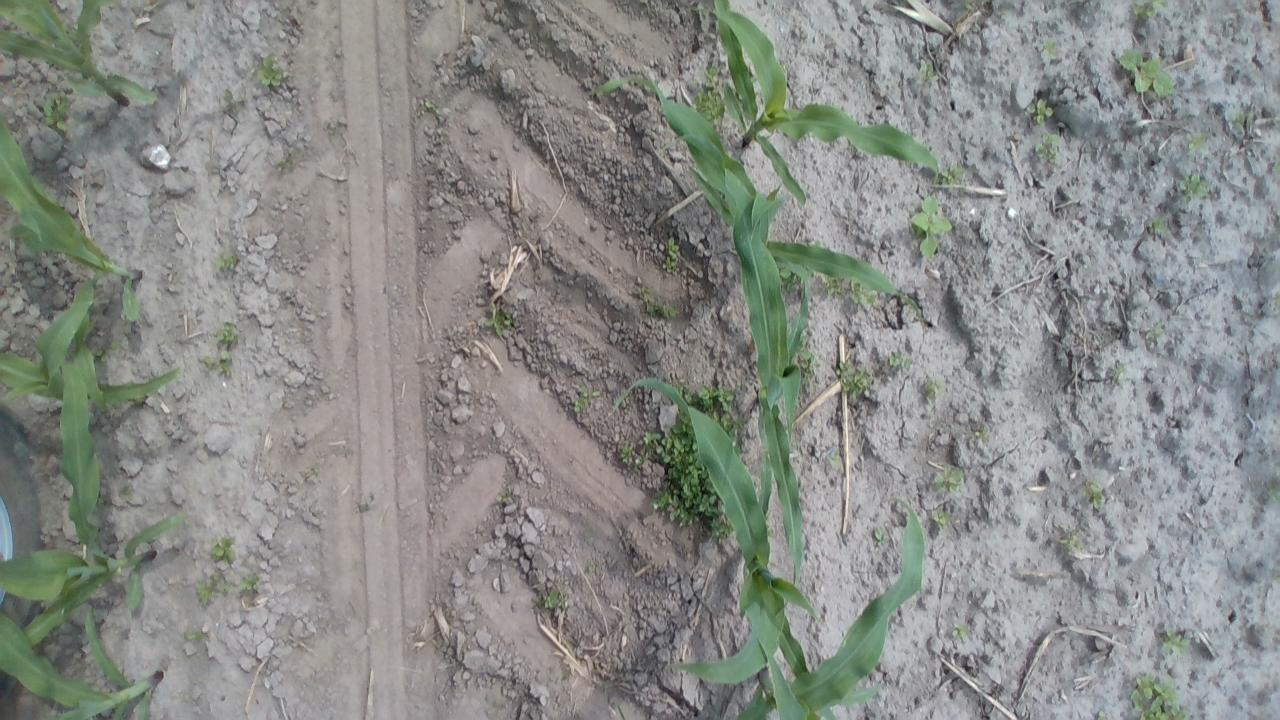Maize: (611, 90, 927, 391), (637, 386, 834, 696), (6, 349, 179, 654), (698, 514, 929, 719), (704, 3, 944, 200), (1, 116, 151, 420), (722, 194, 819, 590), (0, 600, 167, 720), (0, 0, 166, 111), (0, 342, 193, 418)
Weeds: (644, 423, 722, 528), (1128, 669, 1192, 719), (1118, 48, 1174, 96), (912, 195, 952, 262), (686, 384, 744, 422), (696, 67, 729, 128), (249, 52, 288, 90), (481, 301, 518, 338), (835, 362, 871, 400), (1155, 625, 1193, 660), (636, 288, 677, 319), (930, 463, 964, 494), (42, 96, 70, 132), (1178, 169, 1210, 200), (1130, 0, 1169, 25), (1035, 130, 1063, 164), (200, 350, 234, 375), (209, 535, 238, 564), (1026, 97, 1054, 127), (1058, 526, 1086, 556), (535, 588, 568, 613), (662, 235, 682, 276), (796, 344, 818, 381), (195, 575, 221, 606), (850, 280, 880, 306), (573, 386, 600, 414), (938, 162, 968, 186), (212, 250, 242, 274), (1084, 481, 1108, 510), (618, 443, 644, 469), (1038, 37, 1064, 63), (1228, 103, 1252, 130), (918, 57, 940, 86), (923, 376, 947, 401), (88, 340, 115, 362), (1187, 128, 1210, 152), (218, 86, 243, 108), (216, 321, 238, 345), (274, 152, 298, 174), (238, 572, 262, 594), (1110, 358, 1128, 387), (1147, 215, 1169, 238), (930, 506, 951, 529), (886, 352, 910, 372), (822, 276, 842, 298), (1145, 323, 1164, 346), (826, 444, 844, 468), (422, 99, 446, 117), (900, 292, 921, 312), (778, 267, 798, 288), (960, 1, 992, 14), (950, 622, 970, 642), (182, 629, 210, 642), (614, 388, 630, 410), (873, 526, 890, 545), (323, 119, 342, 136), (118, 482, 134, 502), (587, 558, 603, 576), (976, 422, 991, 440), (496, 488, 512, 504), (1264, 483, 1276, 502)
